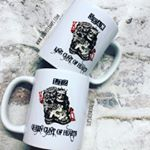cups: (33, 1, 125, 87), (1, 67, 93, 150)
